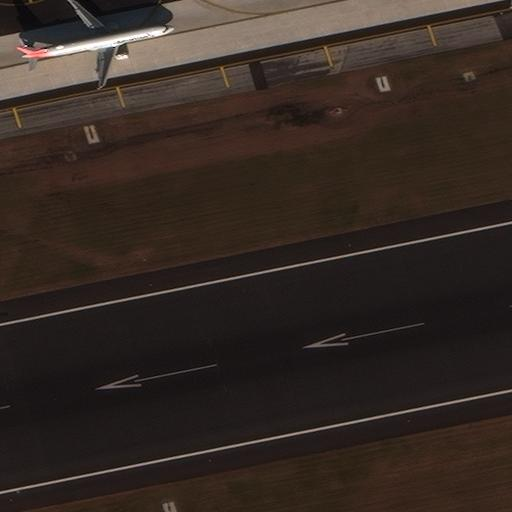Medium Civil Transport: (16, 0, 173, 84)
